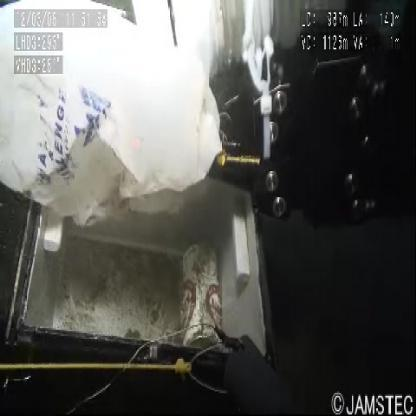Rov: (126, 1, 416, 259)
